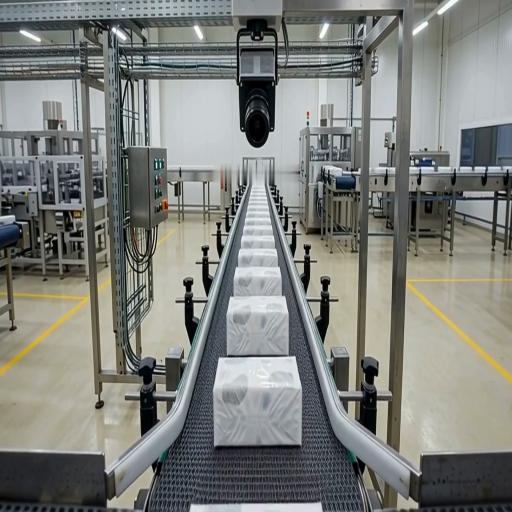good: (213, 357, 300, 448), (224, 294, 290, 356), (232, 266, 282, 298), (235, 249, 279, 272), (241, 202, 275, 226), (242, 186, 270, 209), (238, 235, 277, 251), (241, 222, 275, 236)
